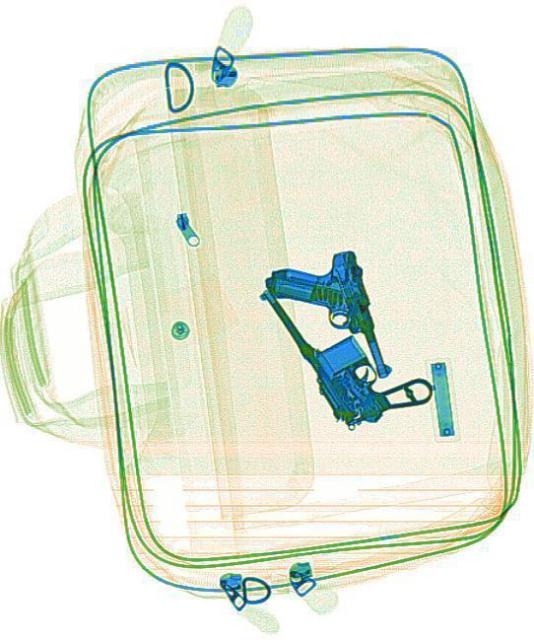Gun: (256, 235, 436, 455), (257, 236, 393, 409)
